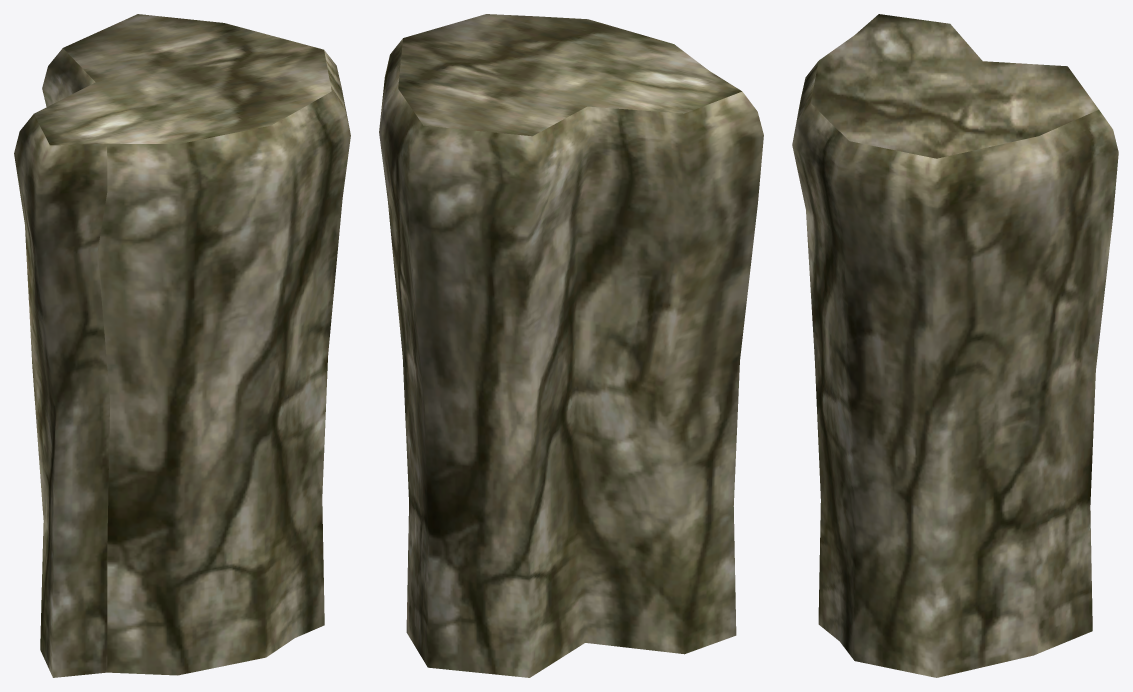
Rendered from CB_PLATFORM02.fbx.
The picture shows the model from 3 angles, left to right: view 1: azimuth 30°, elevation 25°; view 2: azimuth 150°, elevation 25°; view 3: azimuth 270°, elevation 25°; orthographic projection. The views are drawn at different scales.
Visible parts, largest first — view 1: CB_PLATFORM02; view 2: CB_PLATFORM02; view 3: CB_PLATFORM02.
Part boxes in pixels (<box>): CB_PLATFORM02: <box>14,14,350,677</box>; CB_PLATFORM02: <box>379,14,763,677</box>; CB_PLATFORM02: <box>792,14,1118,677</box>.
Size of the model in its own units: 24172 by 36484 by 20682.
2 materials, 2 textured.
